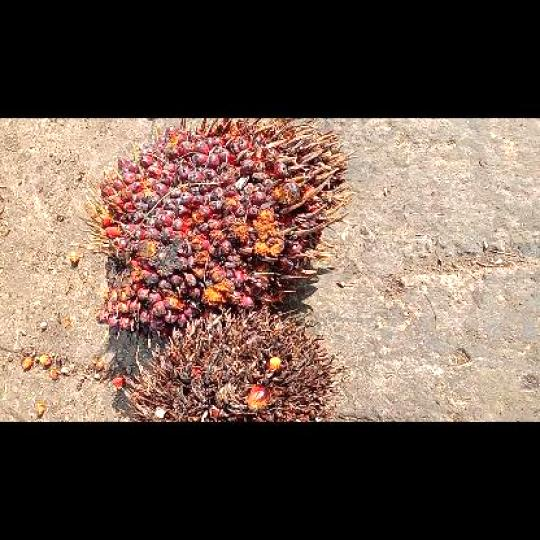masak: (78, 117, 353, 344)
terlalu masak: (122, 304, 344, 420)
